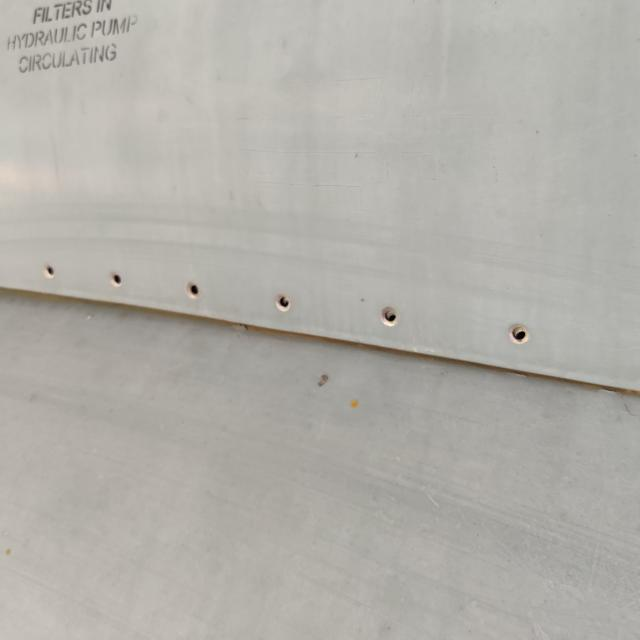missing-head: (494, 303, 547, 357), (364, 289, 414, 339), (96, 256, 140, 299), (261, 282, 304, 324), (173, 268, 215, 308), (33, 255, 65, 286)
